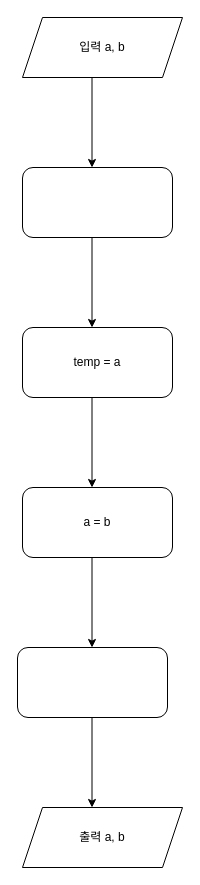
The diagram is 200 pixels wide and 885 high, and some of its shapes have lost their labels. The centre of each missing label's shape, as x and y in pixels:
"b = temp" belongs at point (92, 682).
"변수 temp 만들기" belongs at point (97, 202).
